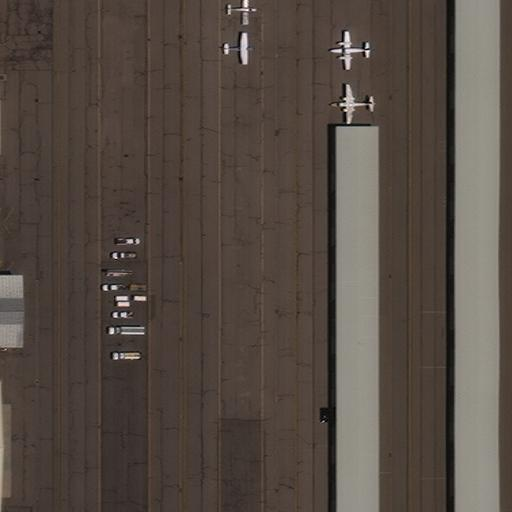Small Civil Transport: (328, 84, 377, 124), (327, 31, 372, 69), (220, 32, 255, 64), (224, 0, 258, 24)
